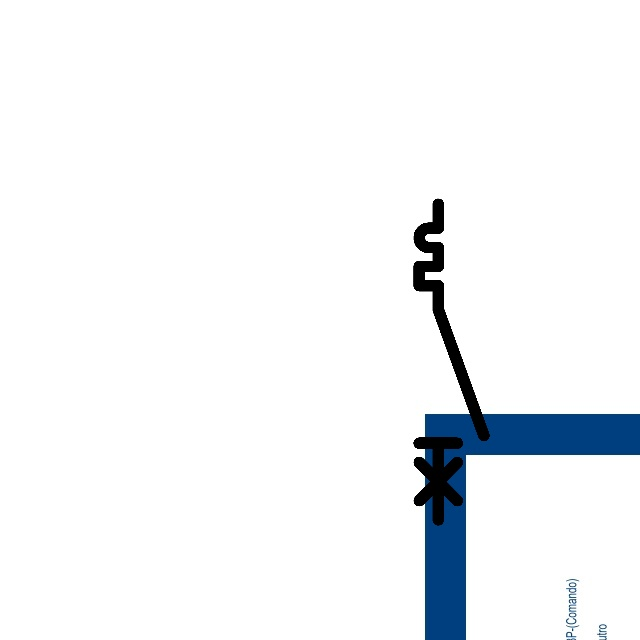interruptor_termomagnetico: (411, 196, 492, 527)
